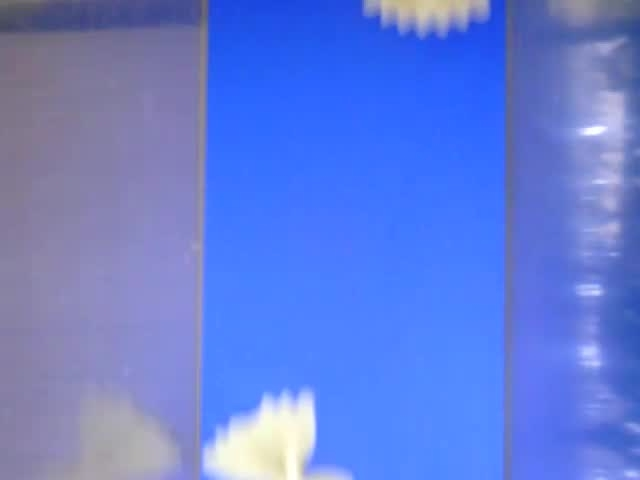farfalle: (202, 384, 351, 480), (357, 1, 490, 41)
